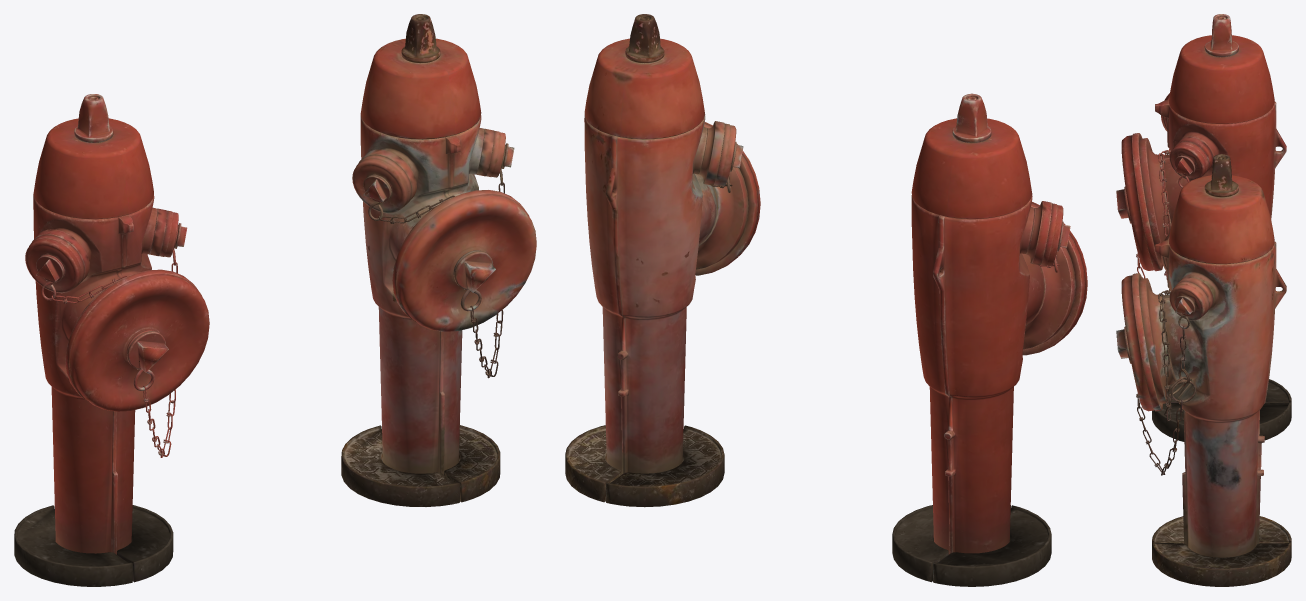
Rendered from fire_hydrant.glb.
3 views of the same model, side by side, from view 1: azimuth 30°, elevation 25°; view 2: azimuth 150°, elevation 25°; view 3: azimuth 270°, elevation 25° (orthographic). The views are drawn at different scales.
Visible parts, largest first — view 1: fire_hydrant, fire_hydrant_aged, fire_hydrant_cap_01, fire_hydrant_cap_01_aged, fire_hydrant_cap_03_aged, fire_hydrant_cap_03, fire_hydrant_chain_aged, fire_hydrant_chain, fire_hydrant_cap_02, fire_hydrant_cap_02_aged; view 2: fire_hydrant, fire_hydrant_aged, fire_hydrant_cap_01_aged, fire_hydrant_cap_01, fire_hydrant_cap_03, fire_hydrant_cap_03_aged; view 3: fire_hydrant_aged, fire_hydrant, fire_hydrant_cap_01_aged, fire_hydrant_cap_01, fire_hydrant_chain_aged, fire_hydrant_cap_02_aged, fire_hydrant_cap_02, fire_hydrant_chain.
Boxes of the visible parts, left/top/right/bottom form: fire_hydrant: left=14, top=94, right=173, bottom=586; fire_hydrant_aged: left=341, top=14, right=500, bottom=506; fire_hydrant_cap_01: left=65, top=269, right=209, bottom=411; fire_hydrant_cap_01_aged: left=392, top=190, right=536, bottom=331; fire_hydrant_cap_03_aged: left=352, top=155, right=411, bottom=213; fire_hydrant_cap_03: left=25, top=235, right=84, bottom=293; fire_hydrant_chain_aged: left=368, top=145, right=505, bottom=378; fire_hydrant_chain: left=41, top=224, right=178, bottom=457; fire_hydrant_cap_02: left=159, top=210, right=187, bottom=257; fire_hydrant_cap_02_aged: left=486, top=131, right=514, bottom=177; fire_hydrant: left=892, top=93, right=1075, bottom=586; fire_hydrant_aged: left=565, top=14, right=748, bottom=507; fire_hydrant_cap_01_aged: left=695, top=122, right=760, bottom=275; fire_hydrant_cap_01: left=1022, top=202, right=1087, bottom=355; fire_hydrant_cap_03: left=1041, top=203, right=1070, bottom=266; fire_hydrant_cap_03_aged: left=713, top=123, right=743, bottom=186; fire_hydrant_aged: left=1139, top=154, right=1291, bottom=586; fire_hydrant: left=1139, top=14, right=1291, bottom=441; fire_hydrant_cap_01_aged: left=1116, top=273, right=1162, bottom=411; fire_hydrant_cap_01: left=1116, top=133, right=1162, bottom=271; fire_hydrant_chain_aged: left=1136, top=289, right=1196, bottom=475; fire_hydrant_cap_02_aged: left=1169, top=281, right=1208, bottom=320; fire_hydrant_cap_02: left=1169, top=141, right=1208, bottom=180; fire_hydrant_chain: left=1136, top=149, right=1194, bottom=279.
Bounding box in the file's own units: 0.8746 × 0.7995 × 0.3176.
2 materials, 2 textured.
